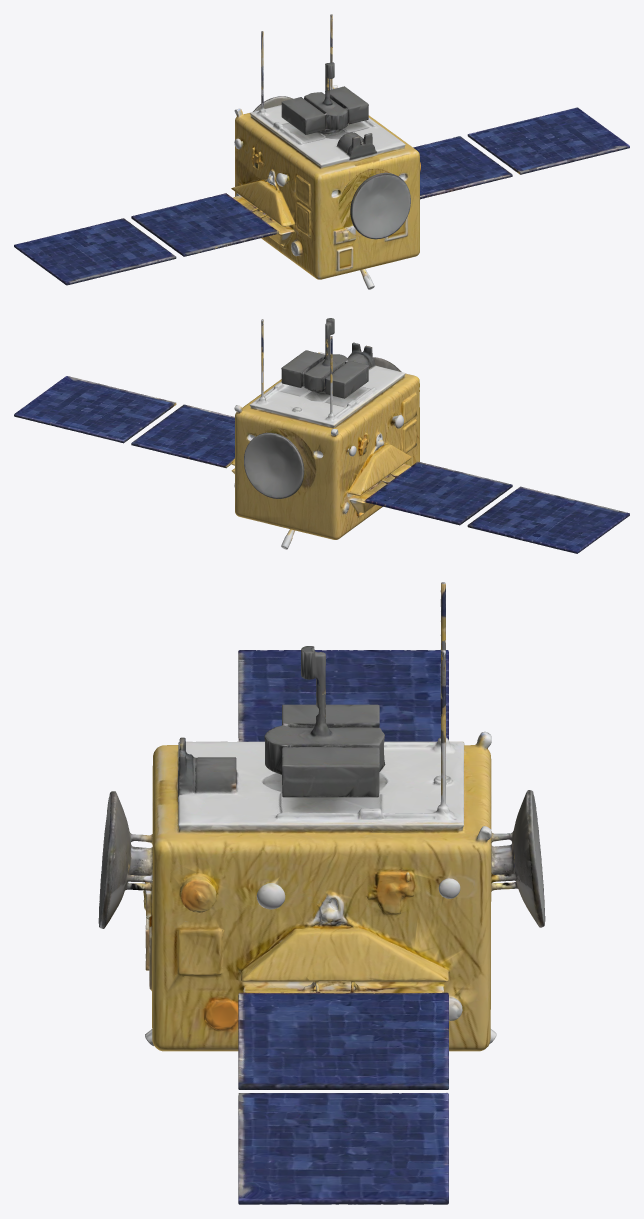
File: comet_interceptor.glb
3 renders of one model, top to bottom at view 1: azimuth 30°, elevation 25°; view 2: azimuth 150°, elevation 25°; view 3: azimuth 270°, elevation 25°, orthographic. The views are drawn at different scales.
Bounding box in the file's own units: 1.9 × 0.689 × 0.6519.
1 material, 1 textured.
